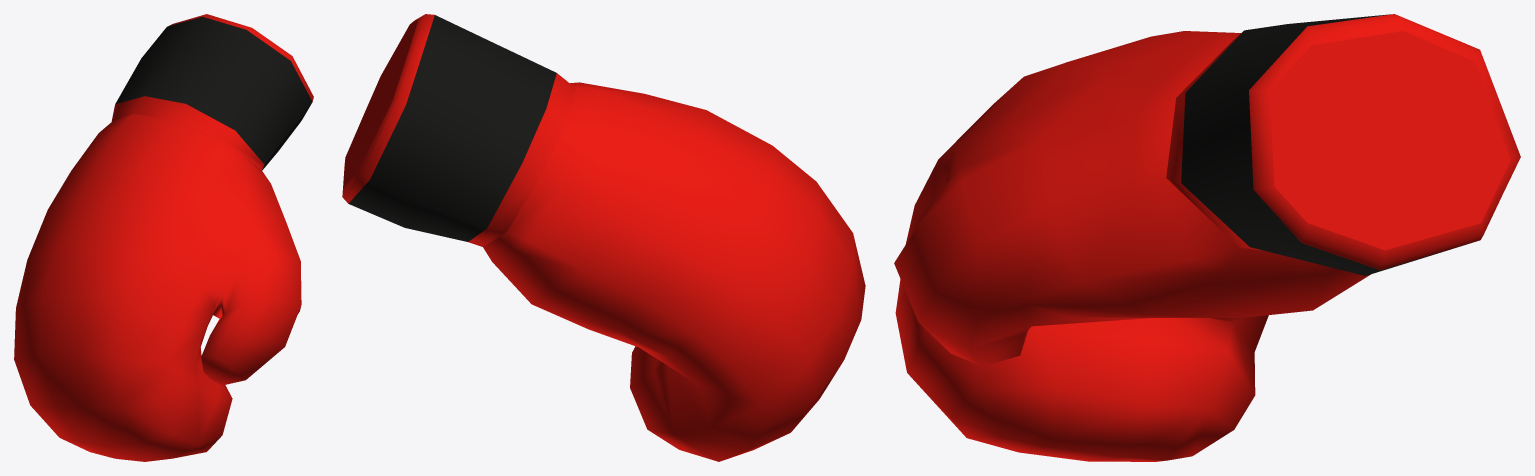
Rendered from boxglove1.fbx.
3 renders of one model, left to right at view 1: azimuth 30°, elevation 25°; view 2: azimuth 150°, elevation 25°; view 3: azimuth 270°, elevation 25°, orthographic. The views are drawn at different scales.
Parts seen in each view (by area): view 1: boxglove1; view 2: boxglove1; view 3: boxglove1.
Part boxes in pixels (x1,y1,x2,y2): boxglove1: (14, 14, 313, 461); boxglove1: (342, 14, 865, 461); boxglove1: (894, 14, 1520, 461).
Bounding box in the file's own units: 0.4146 × 0.4158 × 0.4143.
